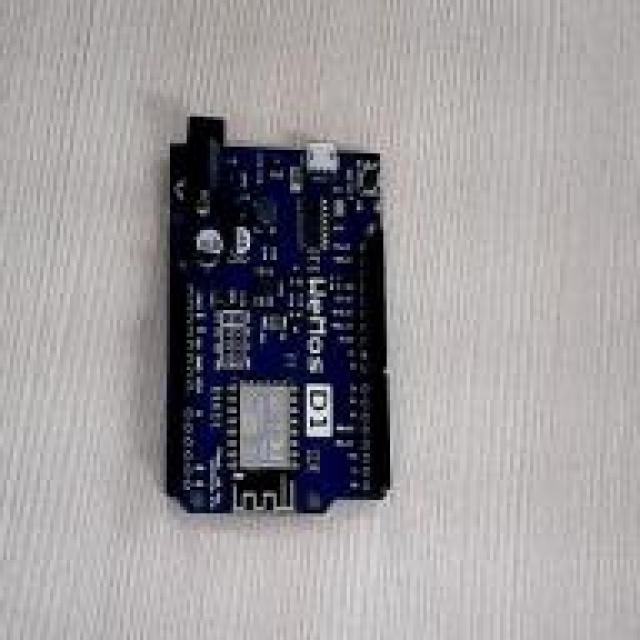Wemos: (168, 118, 388, 511)
